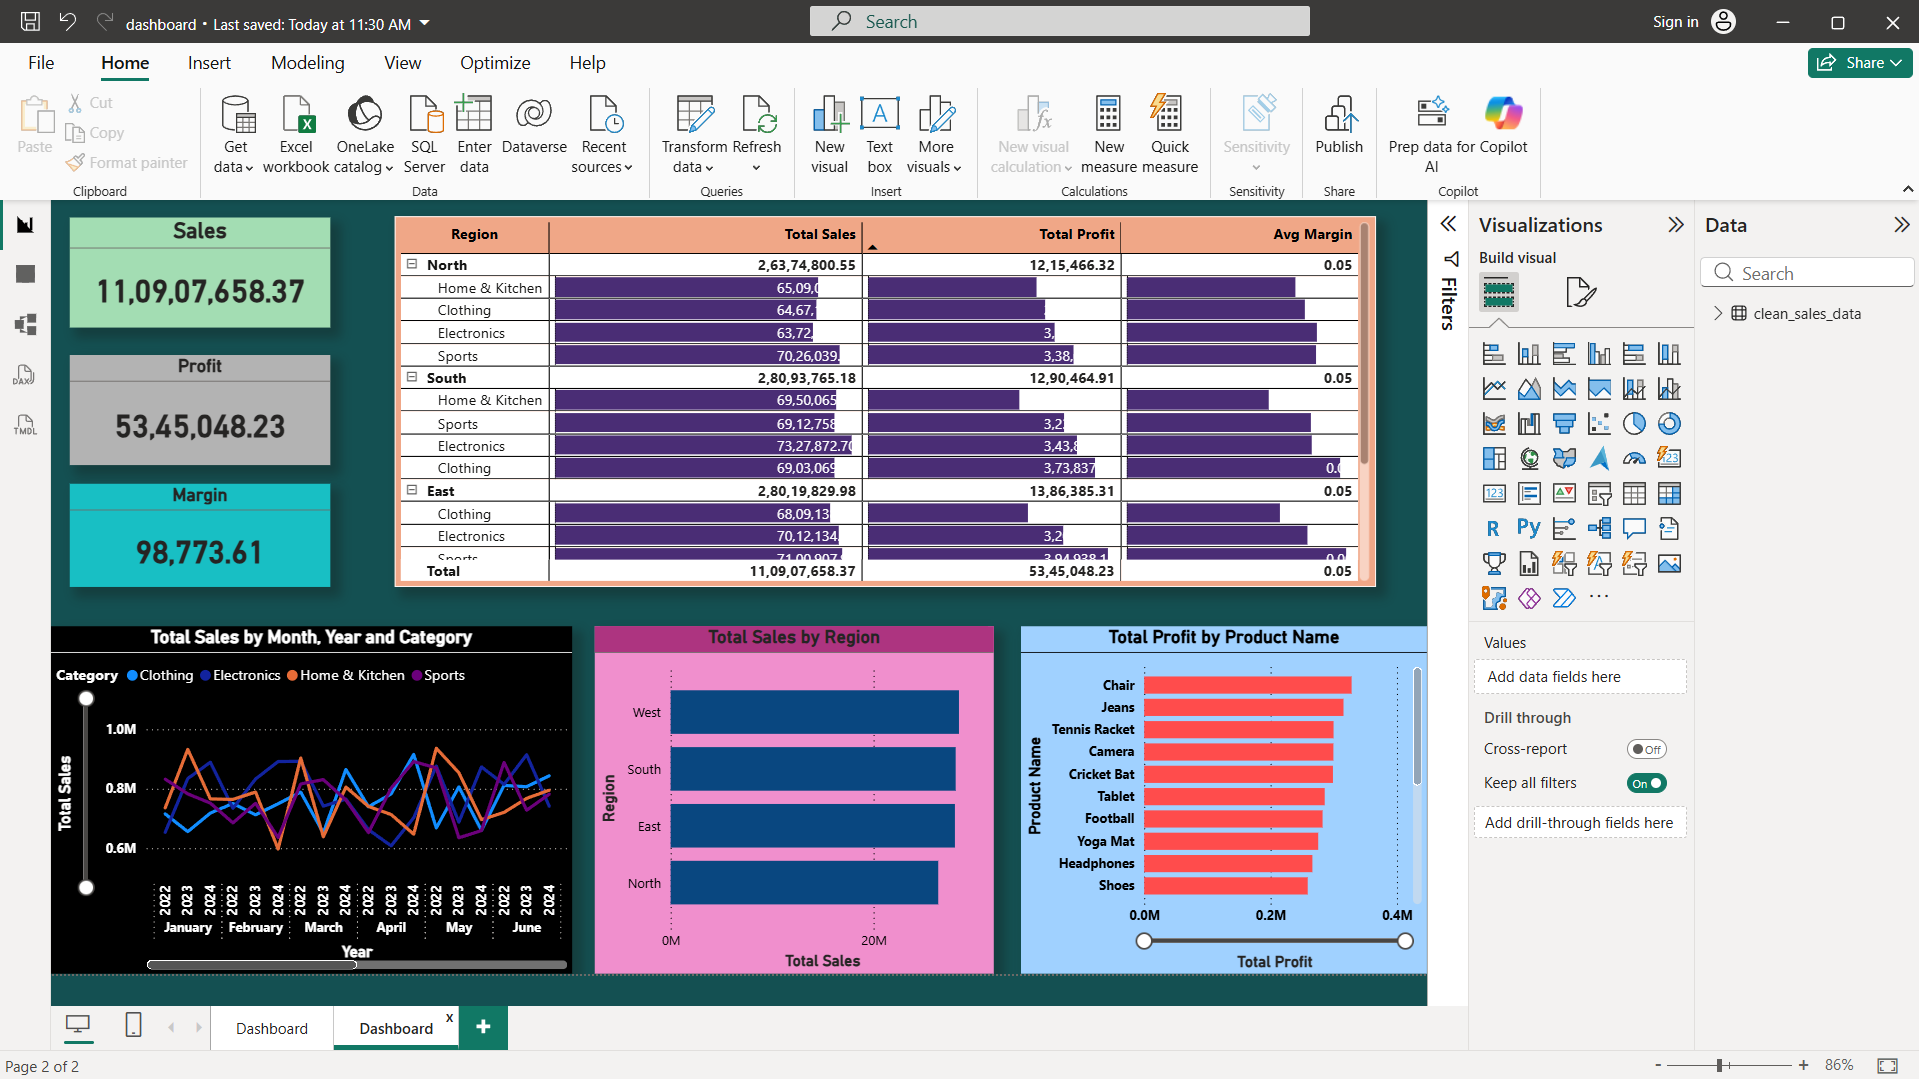

Layout of this report page (visuals, bound fields, positions):
{"tool":"powerbi","page":{"name":"Dashboard ","canvas":[1280,720],"ordinal":1},"visuals":[{"type":"barChart","fields":{"Y":["clean_sales_data.Total Sales"],"Category":["clean_sales_data.Region"]},"box":[505.8,396.5,370.9,323.3],"z":0},{"type":"lineChart","fields":{"Category":["clean_sales_data.Order Date.Variation.Date Hierarchy.Month","clean_sales_data.Order Date.Variation.Date Hierarchy.Year"],"Series":["clean_sales_data.Category"],"Y":["clean_sales_data.Total Sales"]},"box":[0,396.5,484.9,323.3],"z":1000},{"type":"pivotTable","fields":{"Rows":["clean_sales_data.Region","clean_sales_data.Category"],"Values":["clean_sales_data.Total Sales","clean_sales_data.Total Profit","clean_sales_data.Avg Margin"]},"box":[320,15,912.5,345],"z":2000},{"type":"clusteredBarChart","fields":{"Category":["clean_sales_data.Product Name"],"Y":["clean_sales_data.Total Profit"]},"box":[902.3,396.5,377.9,323.3],"z":3000},{"type":"card","title":"Sales ","fields":{"Values":["Sum(clean_sales_data.Sales)"]},"box":[17.5,16.2,242.5,102.5],"z":4000},{"type":"card","title":"Profit","fields":{"Values":["Sum(clean_sales_data.Profit)"]},"box":[17.5,143.8,242.5,102.5],"z":5000},{"type":"card","title":"Margin","fields":{"Values":["Sum(clean_sales_data.Profit Margin)"]},"box":[17.5,263.8,242.5,96.2],"z":6000}]}

Visuals, with their boxes on the page's 1280x720 design canvas (x1, y1, x2, y2). These are canvas units, not pixel positions in the 1919x1079 screenshot, which may show the page scaled, cropped or inside an application window:
barChart - clean_sales_data.Total Sales x clean_sales_data.Region: {"x1": 506, "y1": 396, "x2": 877, "y2": 720}
lineChart - clean_sales_data.Order Date.Variation.Date Hierarchy.Month x clean_sales_data.Order Date.Variation.Date Hierarchy.Year: {"x1": 0, "y1": 396, "x2": 485, "y2": 720}
pivotTable - clean_sales_data.Region x clean_sales_data.Category: {"x1": 320, "y1": 15, "x2": 1232, "y2": 360}
clusteredBarChart - clean_sales_data.Product Name x clean_sales_data.Total Profit: {"x1": 902, "y1": 396, "x2": 1280, "y2": 720}
"Sales " card: {"x1": 18, "y1": 16, "x2": 260, "y2": 119}
"Profit" card: {"x1": 18, "y1": 144, "x2": 260, "y2": 246}
"Margin" card: {"x1": 18, "y1": 264, "x2": 260, "y2": 360}
